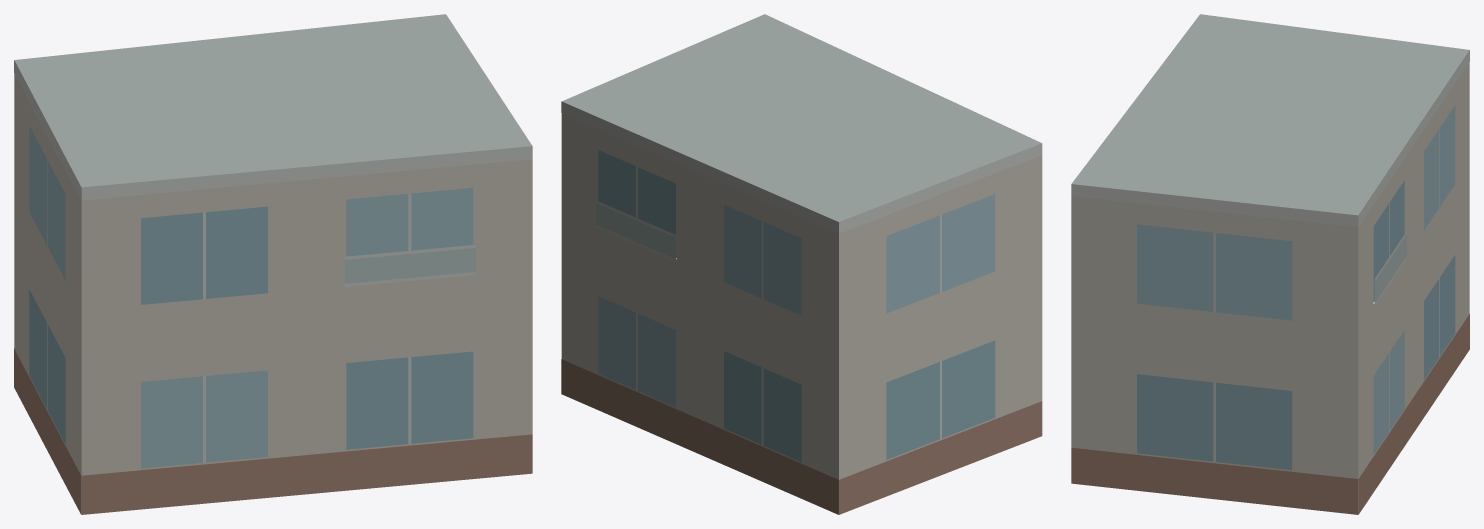
The model's file is survey-upis-32870592.glb.
The picture shows the model from 3 angles, left to right: view 1: azimuth 30°, elevation 25°; view 2: azimuth 150°, elevation 25°; view 3: azimuth 270°, elevation 25°; orthographic projection. The views are drawn at different scales.
Visible parts, largest first — view 1: survey-upis-32870592.tmp; view 2: survey-upis-32870592.tmp; view 3: survey-upis-32870592.tmp.
Part boxes in pixels (left/top/right/bottom): survey-upis-32870592.tmp: left=14, top=14, right=532, bottom=514; survey-upis-32870592.tmp: left=561, top=14, right=1042, bottom=514; survey-upis-32870592.tmp: left=1071, top=14, right=1469, bottom=514.
Bounding box in the file's own units: 8.81 × 6.1 × 7.36.
